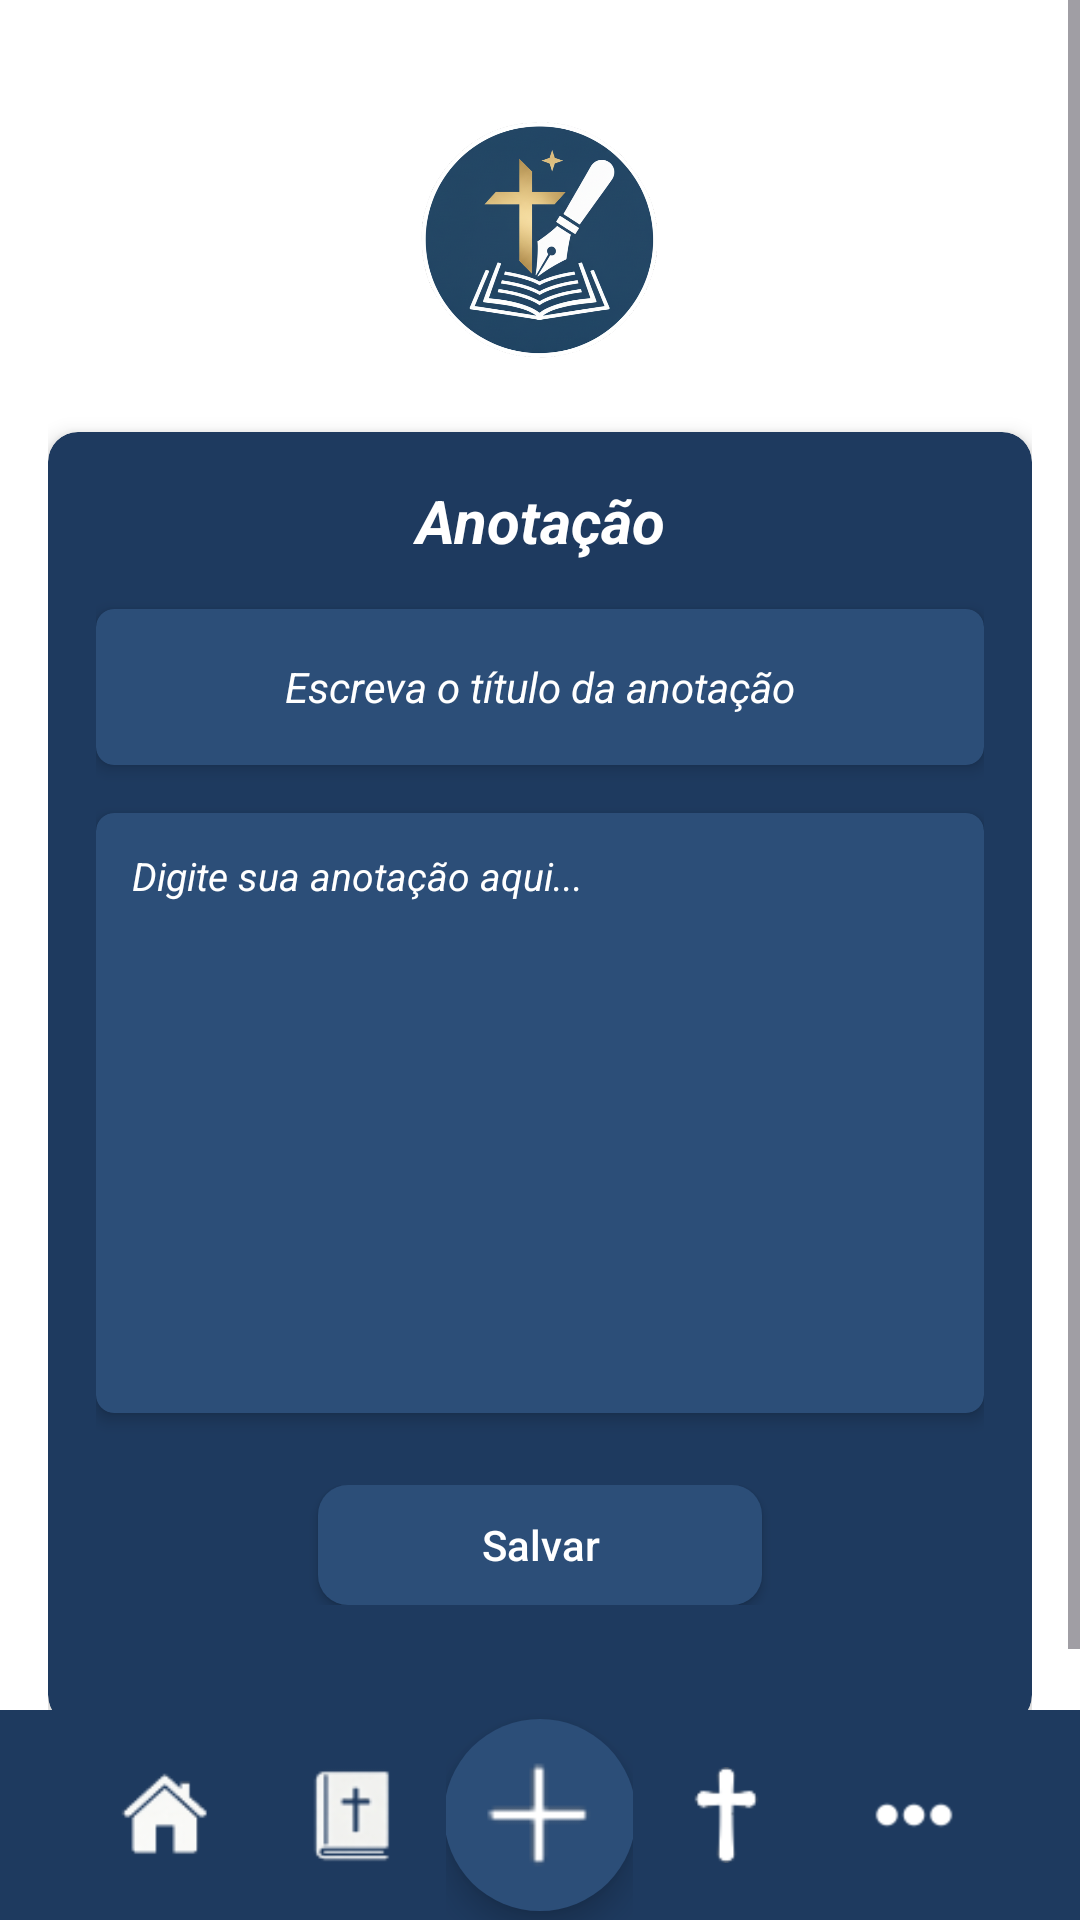

Named icons in this screenshot (1080×1920) and their bounding boxes, (x1, y1, x2, y2):
Bíblia: (315, 1771, 389, 1861)
Cruz: (695, 1767, 757, 1863)
Início: (122, 1774, 207, 1854)
Mais: (875, 1803, 953, 1827)
